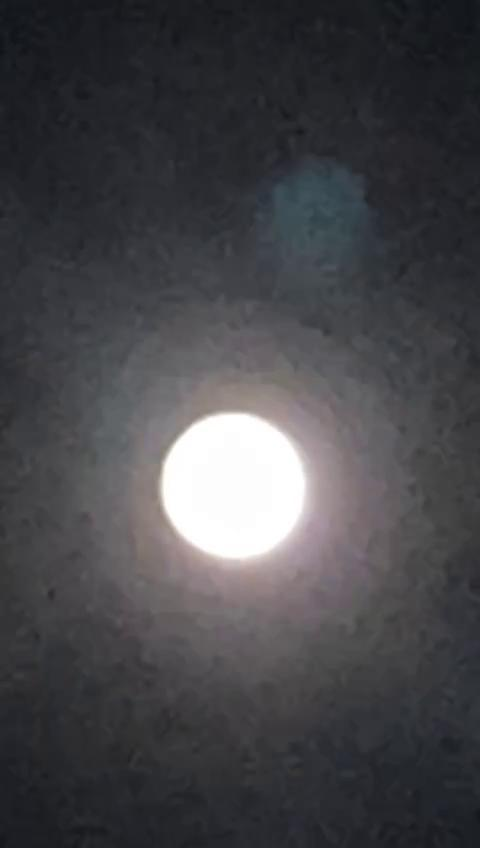moon: (142, 377, 314, 568)
